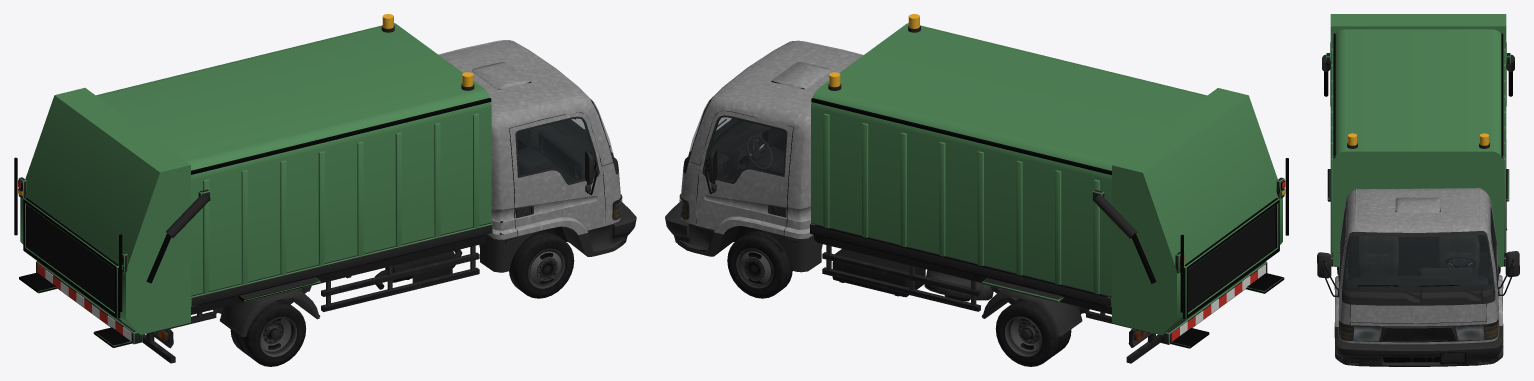
The model's file is papa-tudo.glb.
The picture shows the model from 3 angles, left to right: view 1: azimuth 30°, elevation 25°; view 2: azimuth 150°, elevation 25°; view 3: azimuth 270°, elevation 25°; orthographic projection. The views are drawn at different scales.
Parts seen in each view (by area): view 1: body, trunk, glass_door_fr, wheel_rr_tire, wheel_fr_tire, wheel_fr_rim, wheel_rr_rim, bumper_front; view 2: body, trunk, glass_door_fl, wheel_fl_tire, wheel_rl_tire, wheel_fl_rim, wheel_rl_rim, bumper_front; view 3: body, glass_windshield, bumper_front, trunk, headlight_left, headlight_right.
Boxes of the visible parts, x1=… form: body: x1=96, y1=14, x2=622, y2=363; trunk: x1=14, y1=88, x2=210, y2=347; glass_door_fr: x1=517, y1=118, x2=597, y2=182; wheel_rr_tire: x1=230, y1=299, x2=305, y2=366; wheel_fr_tire: x1=509, y1=231, x2=574, y2=298; wheel_fr_rim: x1=528, y1=249, x2=564, y2=288; wheel_rr_rim: x1=260, y1=317, x2=296, y2=356; bumper_front: x1=612, y1=201, x2=636, y2=250; body: x1=679, y1=14, x2=1206, y2=363; trunk: x1=1092, y1=88, x2=1288, y2=348; glass_door_fl: x1=704, y1=117, x2=785, y2=181; wheel_fl_tire: x1=727, y1=231, x2=792, y2=298; wheel_rl_tire: x1=995, y1=298, x2=1071, y2=366; wheel_fl_rim: x1=736, y1=248, x2=773, y2=288; wheel_rl_rim: x1=1005, y1=317, x2=1041, y2=356; bumper_front: x1=665, y1=200, x2=689, y2=250; body: x1=1317, y1=29, x2=1519, y2=357; glass_windshield: x1=1344, y1=235, x2=1492, y2=288; bumper_front: x1=1335, y1=336, x2=1502, y2=366; trunk: x1=1322, y1=14, x2=1514, y2=136; headlight_left: x1=1455, y1=321, x2=1498, y2=340; headlight_right: x1=1339, y1=322, x2=1381, y2=340.
Bounding box in the file's own units: 6.56 × 2.78 × 2.61.
6 materials, 5 textured.
